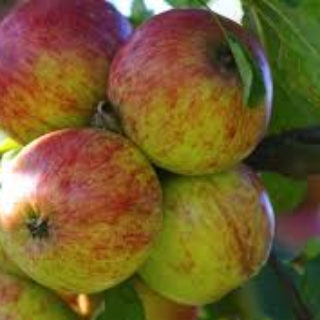tao: (105, 6, 280, 179), (2, 124, 163, 300)
